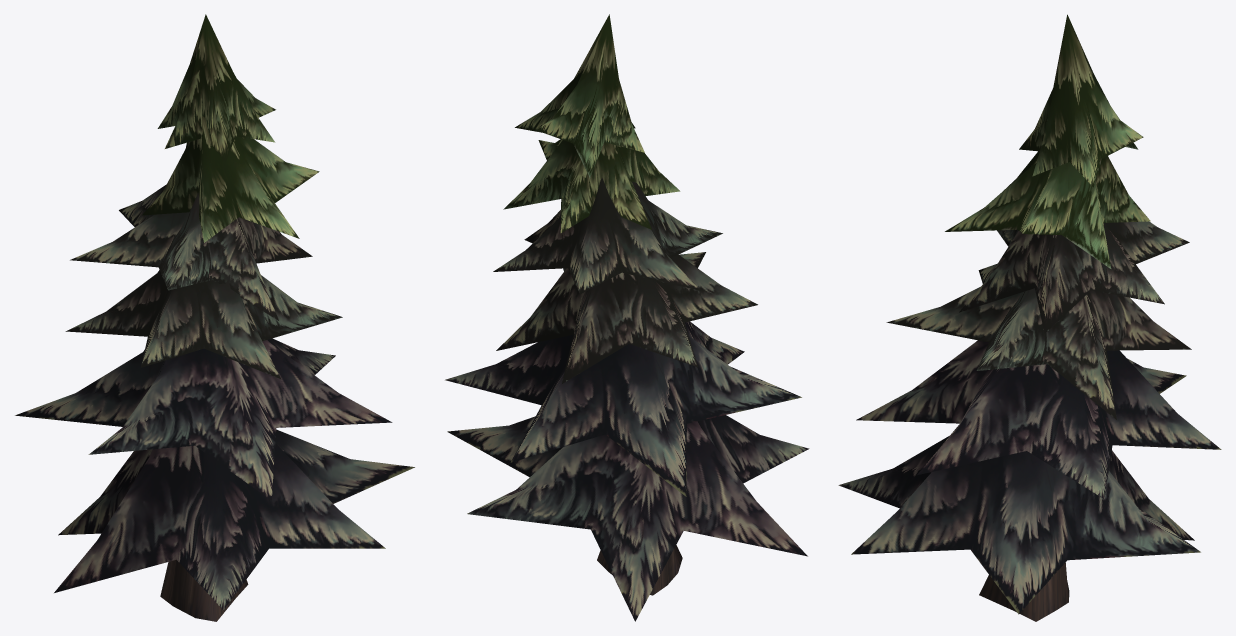
File: Nspruce_3_1.fbx
3 renders of one model, left to right at view 1: azimuth 30°, elevation 25°; view 2: azimuth 150°, elevation 25°; view 3: azimuth 270°, elevation 25°, orthographic. The views are drawn at different scales.
Parts seen in each view (by area): view 1: Nspruce_3_1; view 2: Nspruce_3_1; view 3: Nspruce_3_1.
Part boxes in pixels (<box>): Nspruce_3_1: <box>15,14,414,621</box>; Nspruce_3_1: <box>445,14,809,621</box>; Nspruce_3_1: <box>838,14,1221,621</box>.
Size of the model in its own units: 174 by 263 by 152.
